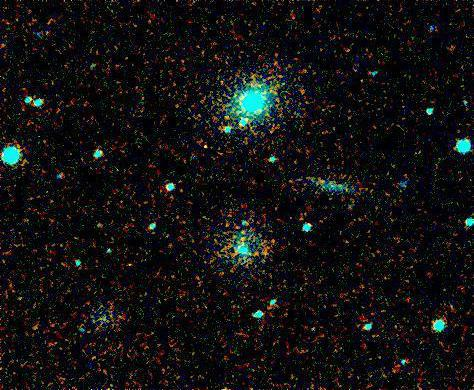star: (188, 133, 218, 163)
